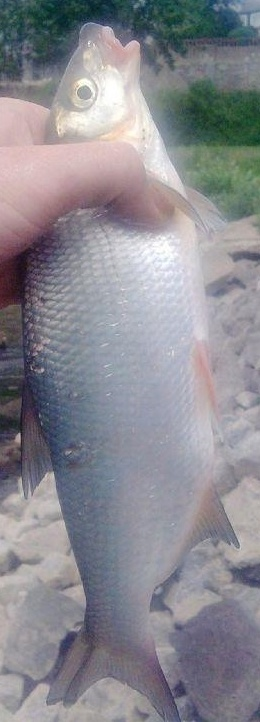Vimba vimba: (20, 20, 240, 722)
